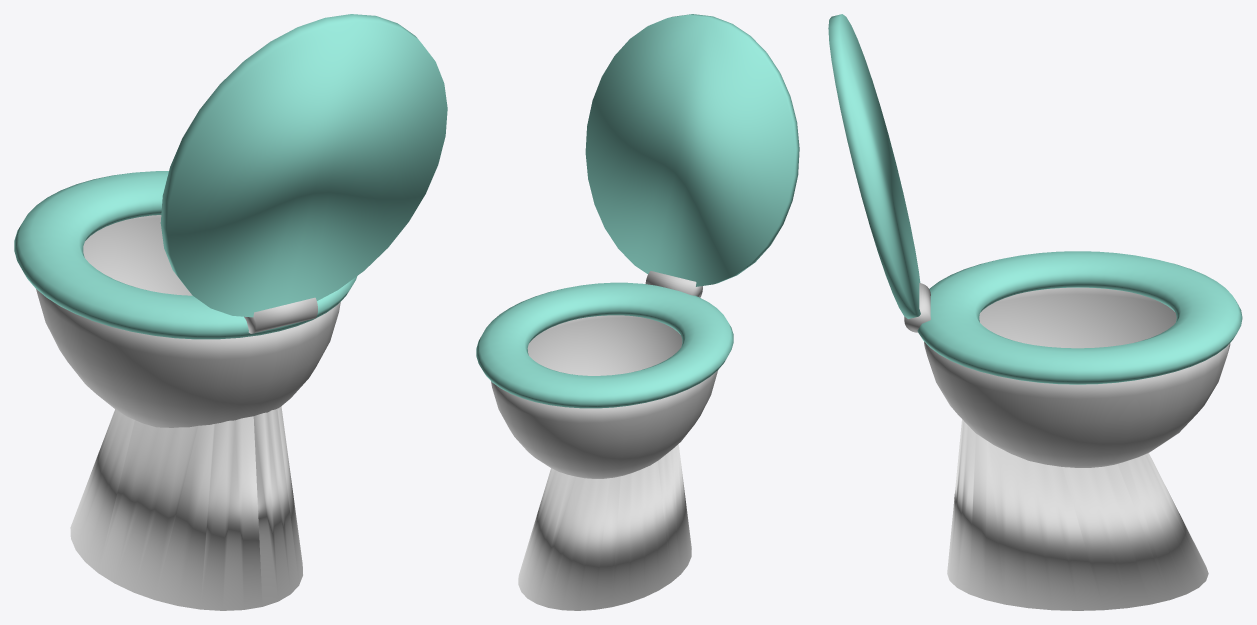
The model's file is toilet.fbx.
3 renders of one model, left to right at view 1: azimuth 30°, elevation 25°; view 2: azimuth 150°, elevation 25°; view 3: azimuth 270°, elevation 25°, orthographic. The views are drawn at different scales.
Parts seen in each view (by area): view 1: Torus; view 2: Torus; view 3: Torus.
Part boxes in pixels (x1,y1,x2,y2): Torus: (14,14,447,610); Torus: (476,14,799,610); Torus: (828,14,1242,610).
Size of the model in its own units: 325 by 683 by 468.
